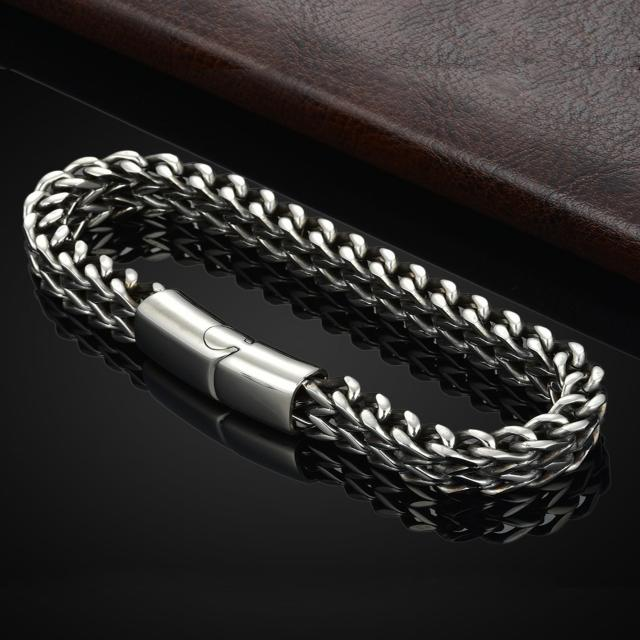bracelet: (29, 56, 640, 524)
